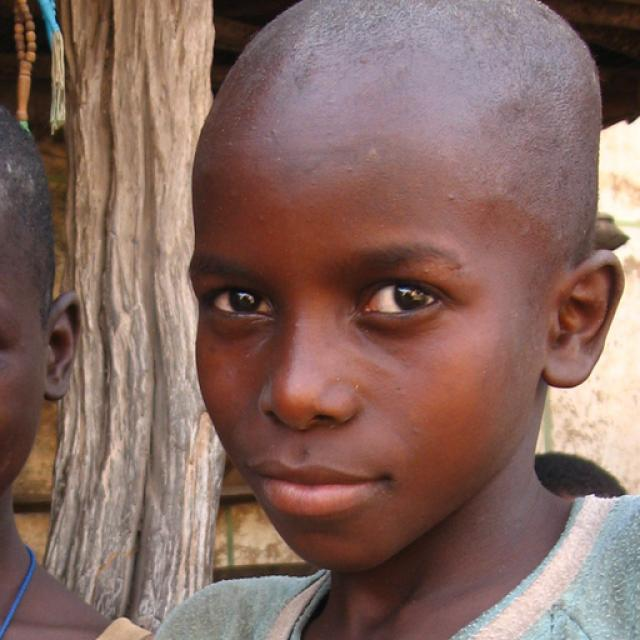neutral: (185, 41, 544, 576)
